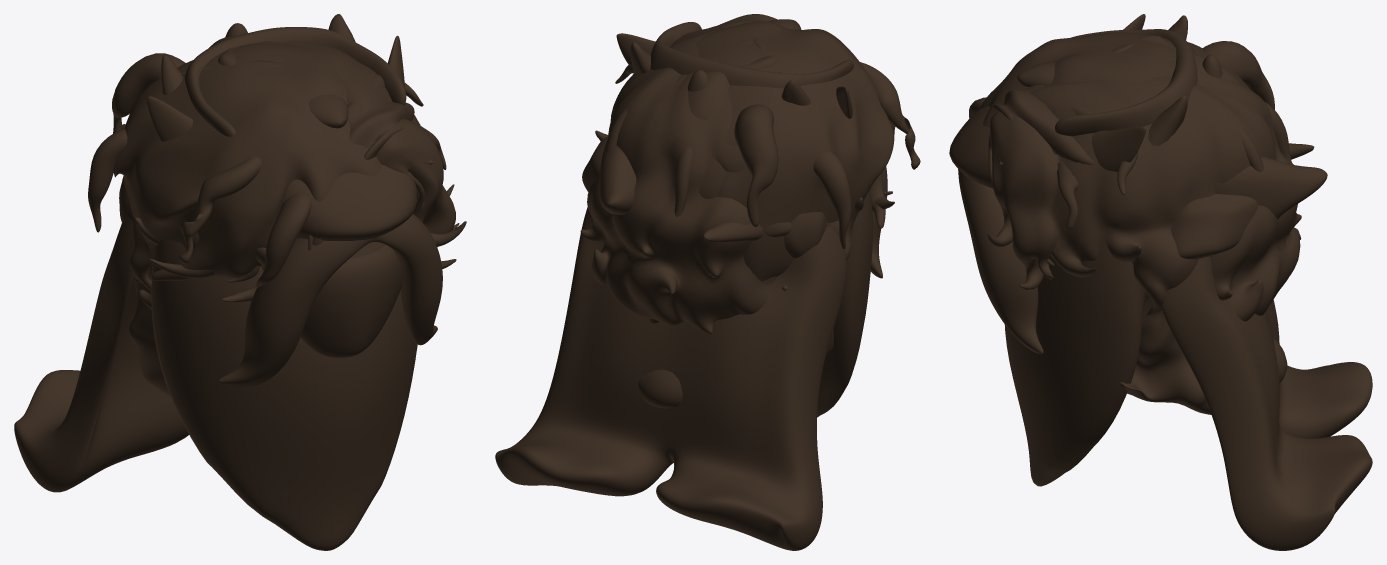
Rendered from hair.glb.
3 renders of one model, left to right at view 1: azimuth 30°, elevation 25°; view 2: azimuth 150°, elevation 25°; view 3: azimuth 270°, elevation 25°, orthographic. The views are drawn at different scales.
Parts seen in each view (by area): view 1: Man_Hair_130, Man_Hair_050, Man_Hair_110, Man_Hair_070, Man_Hair_001, Man_Hair_030; view 2: Man_Hair_050, Man_Hair_070, Man_Hair_110, Man_Hair_130, Man_Hair_010, Man_Hair_030, Man_Hair_090, Man_Hair_001; view 3: Man_Hair_050, Man_Hair_070, Man_Hair_130, Man_Hair_110, Man_Hair_030, Man_Hair_090, Man_Hair_010, Man_Hair_001.
Part boxes in pixels (x1,y1,x2,y2): Man_Hair_130: [147, 14, 417, 550]; Man_Hair_050: [14, 27, 442, 492]; Man_Hair_110: [88, 43, 446, 287]; Man_Hair_070: [119, 40, 466, 309]; Man_Hair_001: [225, 23, 417, 241]; Man_Hair_030: [128, 36, 414, 396]; Man_Hair_050: [495, 22, 887, 550]; Man_Hair_070: [580, 20, 894, 334]; Man_Hair_110: [606, 21, 920, 281]; Man_Hair_130: [616, 33, 872, 417]; Man_Hair_010: [599, 37, 781, 242]; Man_Hair_030: [638, 14, 833, 408]; Man_Hair_090: [582, 41, 792, 236]; Man_Hair_001: [687, 19, 801, 91]; Man_Hair_050: [958, 29, 1372, 550]; Man_Hair_070: [987, 51, 1301, 321]; Man_Hair_130: [1004, 14, 1187, 486]; Man_Hair_110: [969, 32, 1291, 277]; Man_Hair_030: [992, 35, 1287, 414]; Man_Hair_090: [1126, 51, 1258, 259]; Man_Hair_010: [1112, 36, 1327, 234]; Man_Hair_001: [949, 54, 1222, 188].
Bounding box in the file's own units: 0.255 × 0.344 × 0.3083.
